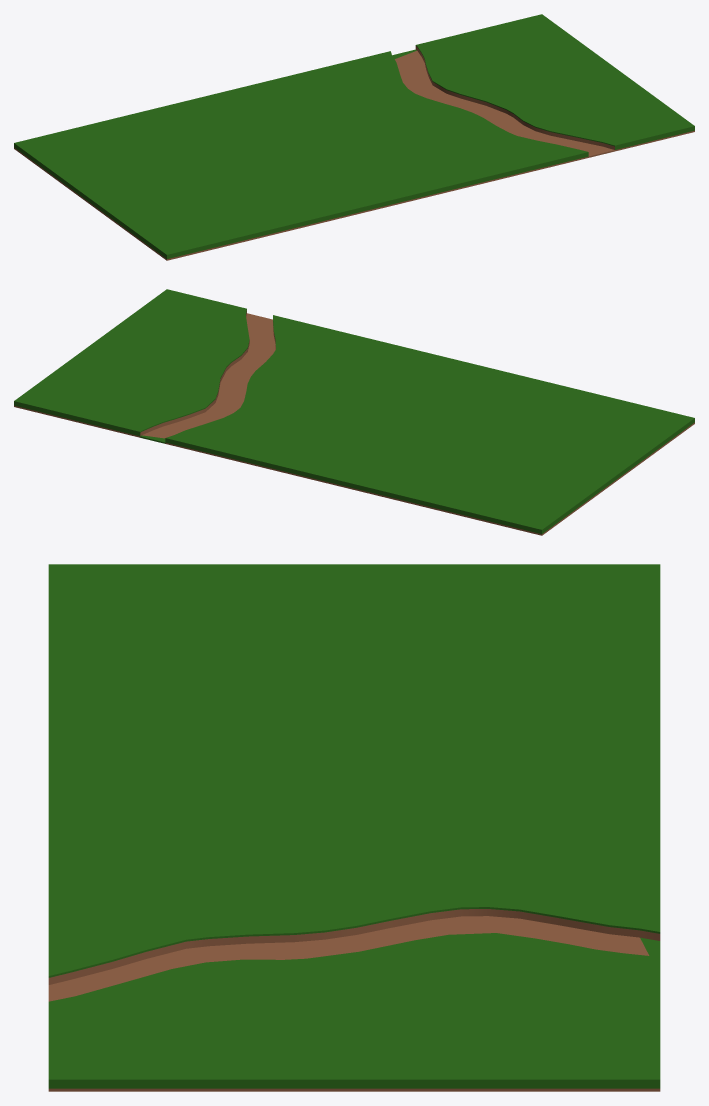
The model's file is MesaNueva.fbx.
3 views of the same model, one above another, from view 1: azimuth 30°, elevation 25°; view 2: azimuth 150°, elevation 25°; view 3: azimuth 270°, elevation 25° (orthographic). The views are drawn at different scales.
Visible parts, largest first — view 1: Table; view 2: Table; view 3: Table.
Part boxes in pixels (left/top/right/bottom): Table: left=14, top=14, right=694, bottom=260; Table: left=14, top=289, right=694, bottom=535; Table: left=48, top=564, right=660, bottom=1091.
Size of the model in its own units: 3608 by 38.49 by 1810.
